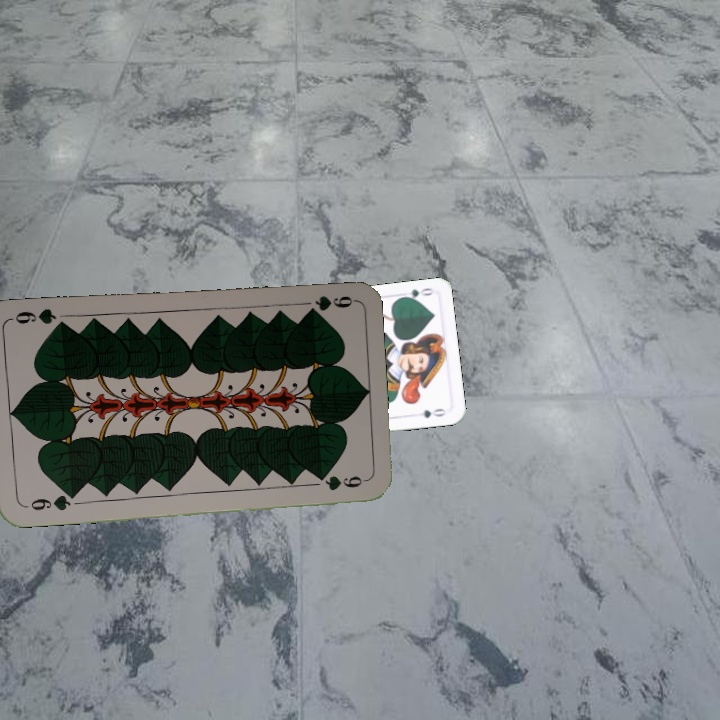G9: (18, 489, 77, 514), (304, 291, 355, 315)
GO: (396, 284, 435, 303)
